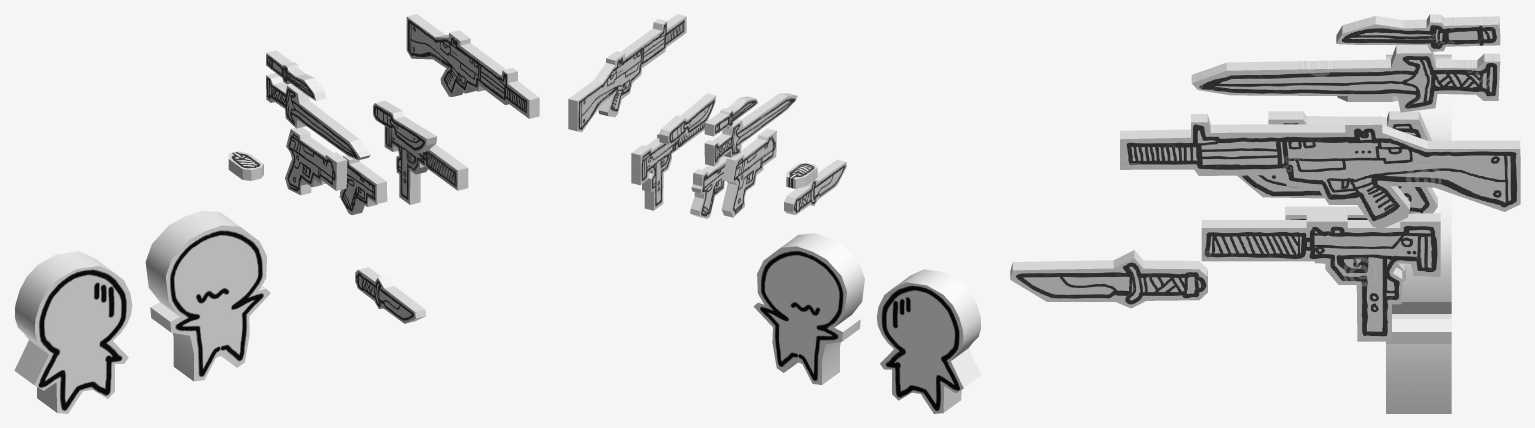
File: DrawnWeaponsVolumeExportblendHuman.fbx
3 renders of one model, left to right at view 1: azimuth 30°, elevation 25°; view 2: azimuth 150°, elevation 25°; view 3: azimuth 270°, elevation 25°, orthographic. The views are drawn at different scales.
Visible parts, largest first — view 1: Human_2, Human, Rifle, Sword, Pistol_1, Uzi, Knife_3, Pistol_2, Knife_2, Knife_1, Bullet; view 2: Human_2, Human, Rifle, Pistol_1, Uzi, Sword, Knife_3, Pistol_2, Knife_2, Knife_1, Bullet; view 3: Rifle, Uzi, Sword, Human_2, Knife_3, Knife_1, Pistol_1, Human, Knife_2, Pistol_2.
Boxes of the visible parts, box(x1,y1,x2,y2) form: Human_2: box(145, 210, 270, 381); Human: box(14, 251, 132, 413); Rifle: box(406, 14, 539, 118); Sword: box(266, 73, 370, 160); Pistol_1: box(285, 127, 347, 195); Uzi: box(384, 126, 468, 204); Knife_3: box(355, 267, 426, 323); Pistol_2: box(339, 155, 387, 214); Knife_2: box(373, 100, 437, 153); Knife_1: box(266, 50, 326, 100); Bullet: box(228, 151, 263, 180); Human_2: box(753, 233, 864, 384); Human: box(876, 269, 981, 413); Rifle: box(568, 14, 686, 132); Pistol_1: box(721, 128, 776, 217); Uzi: box(631, 123, 704, 210); Sword: box(704, 93, 797, 166); Knife_3: box(784, 159, 846, 215); Pistol_2: box(690, 156, 727, 218); Knife_2: box(659, 93, 715, 145); Knife_1: box(704, 96, 758, 136); Bullet: box(786, 162, 817, 188); Rifle: box(1120, 114, 1520, 228); Uzi: box(1201, 213, 1440, 341); Sword: box(1191, 45, 1500, 112); Human_2: box(1386, 187, 1451, 413); Knife_3: box(1010, 250, 1207, 308); Knife_1: box(1336, 14, 1500, 51); Pistol_1: box(1268, 111, 1437, 213); Human: box(1386, 54, 1451, 140); Knife_2: box(1237, 175, 1407, 198); Pistol_2: box(1285, 206, 1405, 281).
Size of the model in its own units: 1221 by 801 by 779.
